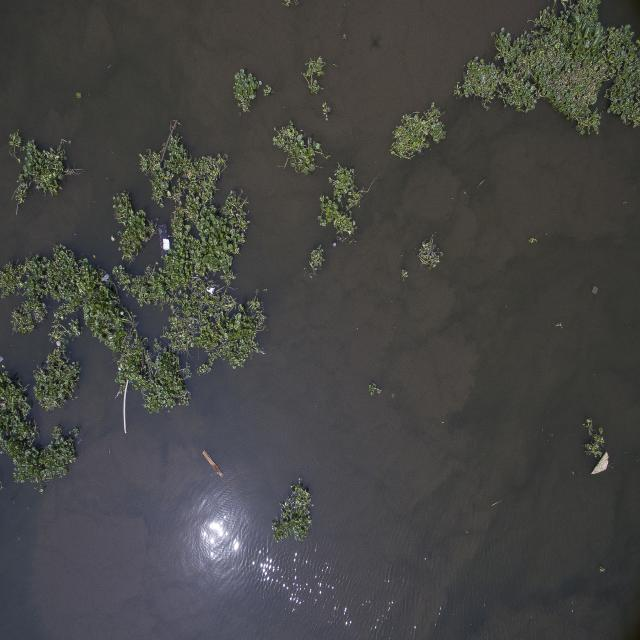plastic: (584, 443, 616, 484), (159, 229, 178, 259), (206, 278, 220, 304)
